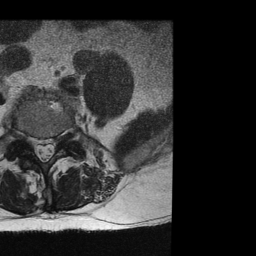CCS_normal: (40, 130, 47, 168)
LFS_normal: (55, 125, 63, 151)
LLS_normal: (47, 129, 55, 163)
RFS_normal: (24, 126, 32, 152)
RLS_normal: (32, 131, 41, 164)
